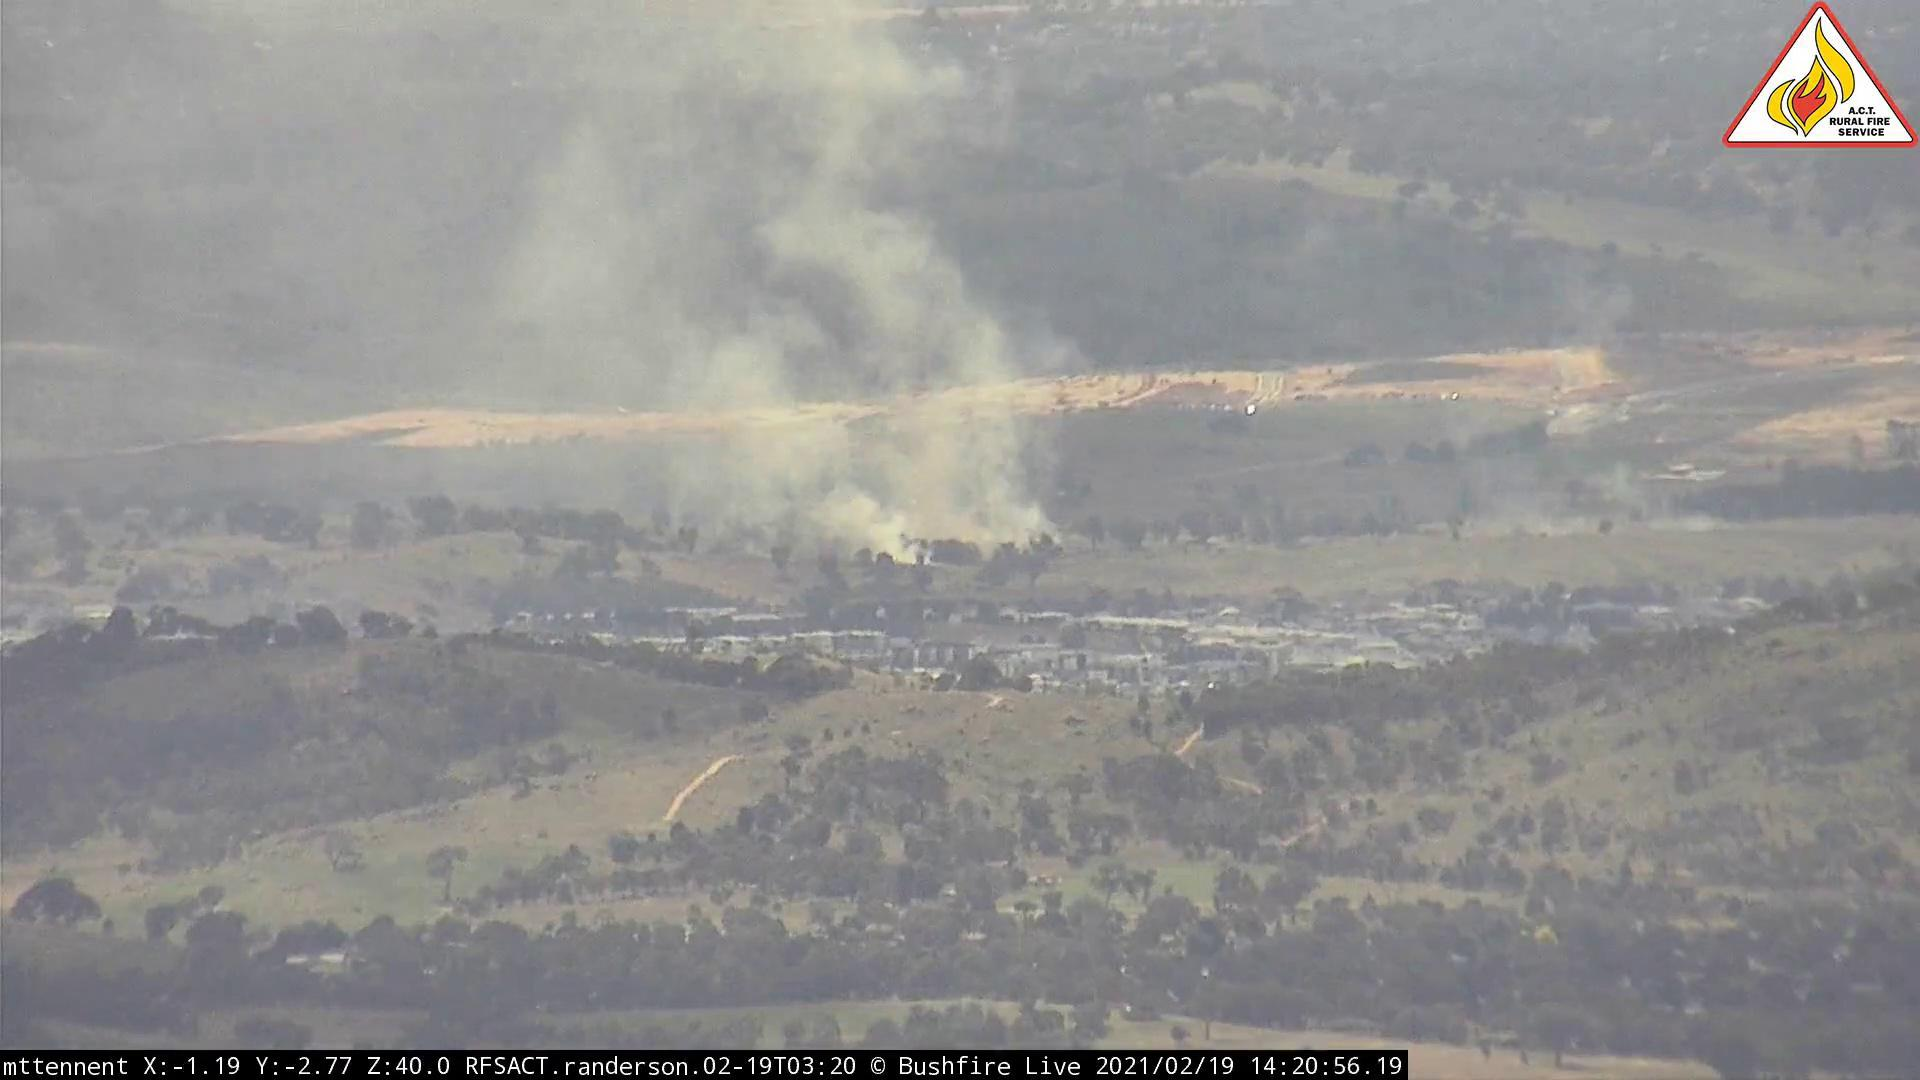Smoke: (386, 3, 1116, 570), (1429, 438, 1749, 549)
